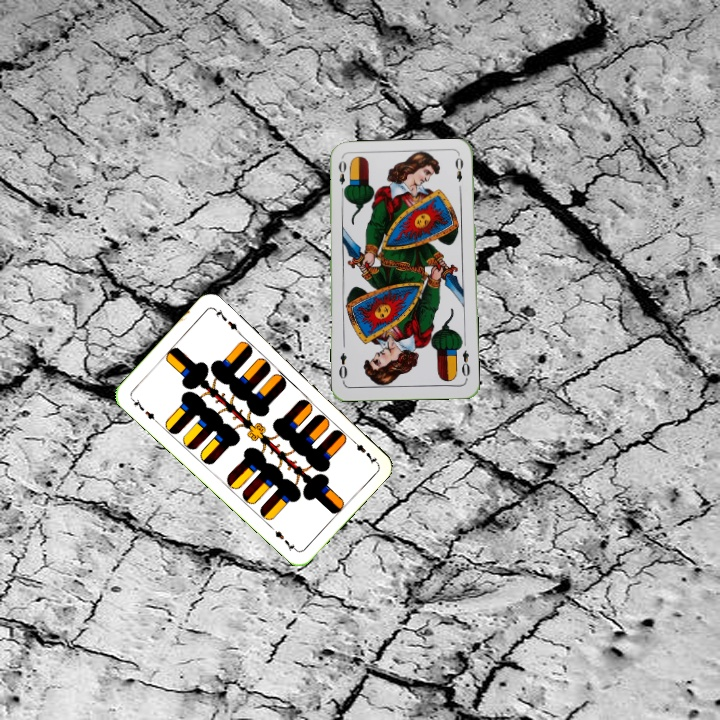E7: (346, 434, 380, 467), (127, 394, 160, 425)
EO: (335, 156, 350, 196), (458, 346, 473, 382)
